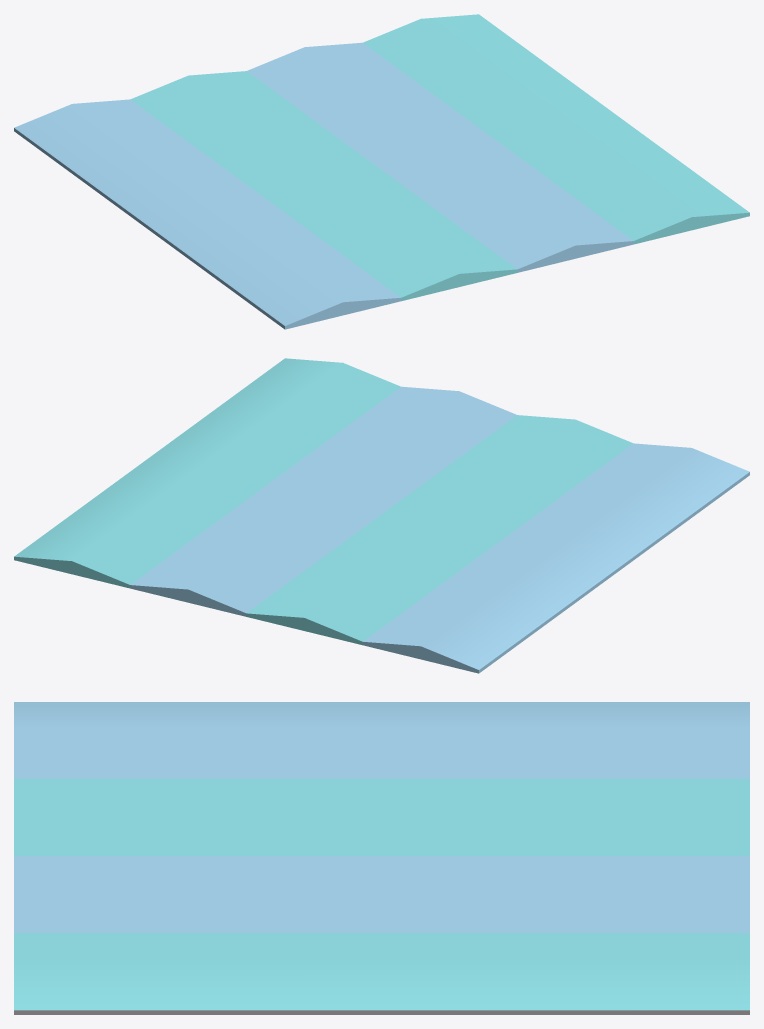
The model's file is carpet_004.glb.
3 renders of one model, top to bottom at view 1: azimuth 30°, elevation 25°; view 2: azimuth 150°, elevation 25°; view 3: azimuth 270°, elevation 25°, orthographic. The views are drawn at different scales.
Visible parts, largest first — view 1: carpet_004; view 2: carpet_004; view 3: carpet_004.
Boxes of the visible parts, x1,y1,x2,y2 form: carpet_004: (14, 14, 749, 329); carpet_004: (14, 358, 749, 673); carpet_004: (14, 702, 749, 1014).
Size of the model in its own units: 0.6047 by 0.0164 by 0.6104.
Materials: 1 (1 with a texture image).
